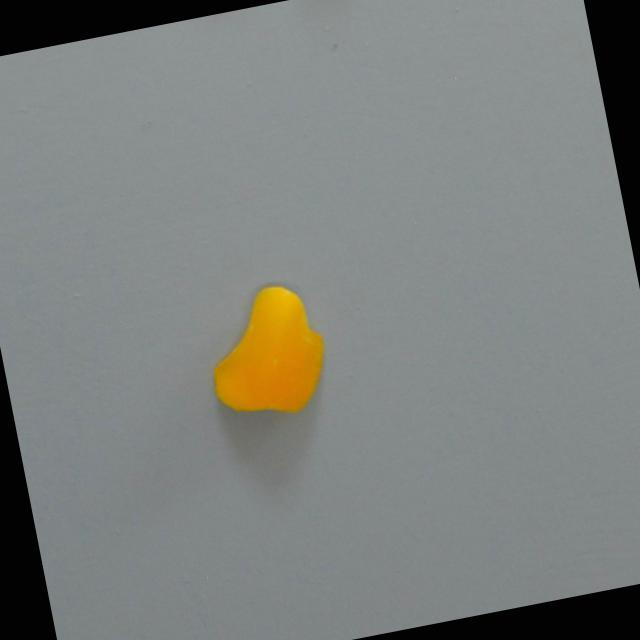estandar: (195, 276, 337, 433)
